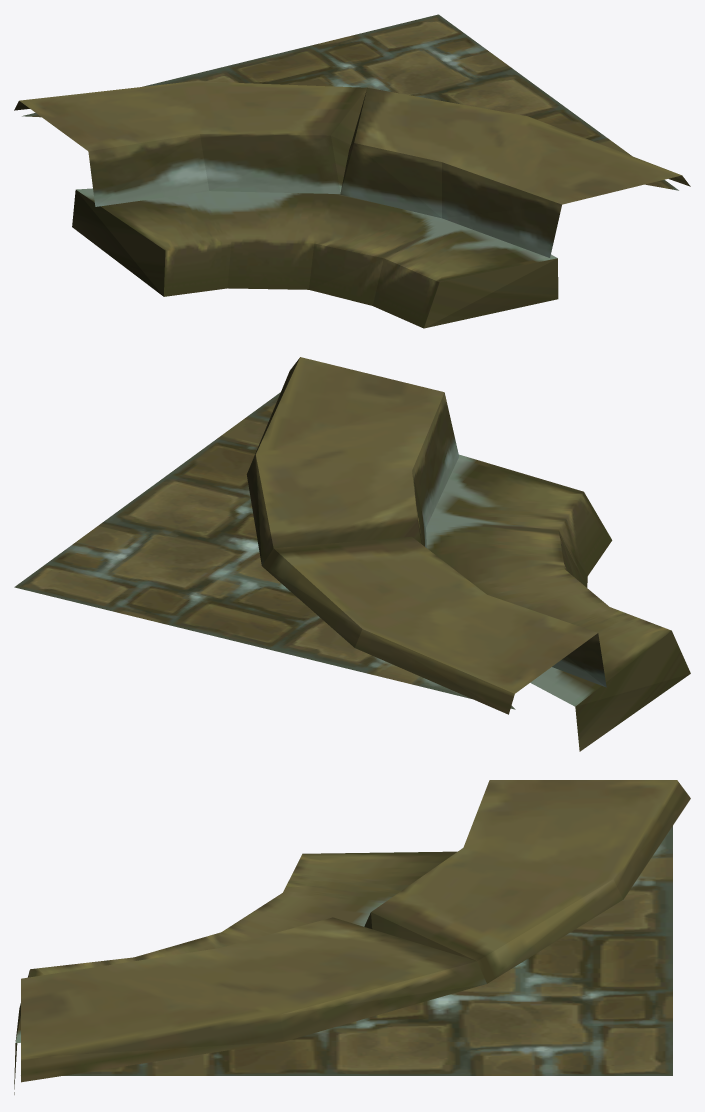
The model's file is tundra_negdias_concave_01.fbx.
3 renders of one model, top to bottom at view 1: azimuth 30°, elevation 25°; view 2: azimuth 150°, elevation 25°; view 3: azimuth 270°, elevation 25°, orthographic. The views are drawn at different scales.
Parts seen in each view (by area): view 1: obj0.150; view 2: obj0.150; view 3: obj0.150.
Boxes of the visible parts, left/top/right/bottom form: obj0.150: left=14, top=14, right=690, bottom=328; obj0.150: left=14, top=357, right=690, bottom=751; obj0.150: left=14, top=780, right=690, bottom=1094.
Size of the model in its own units: 4.12 by 0.8653 by 4.15.
